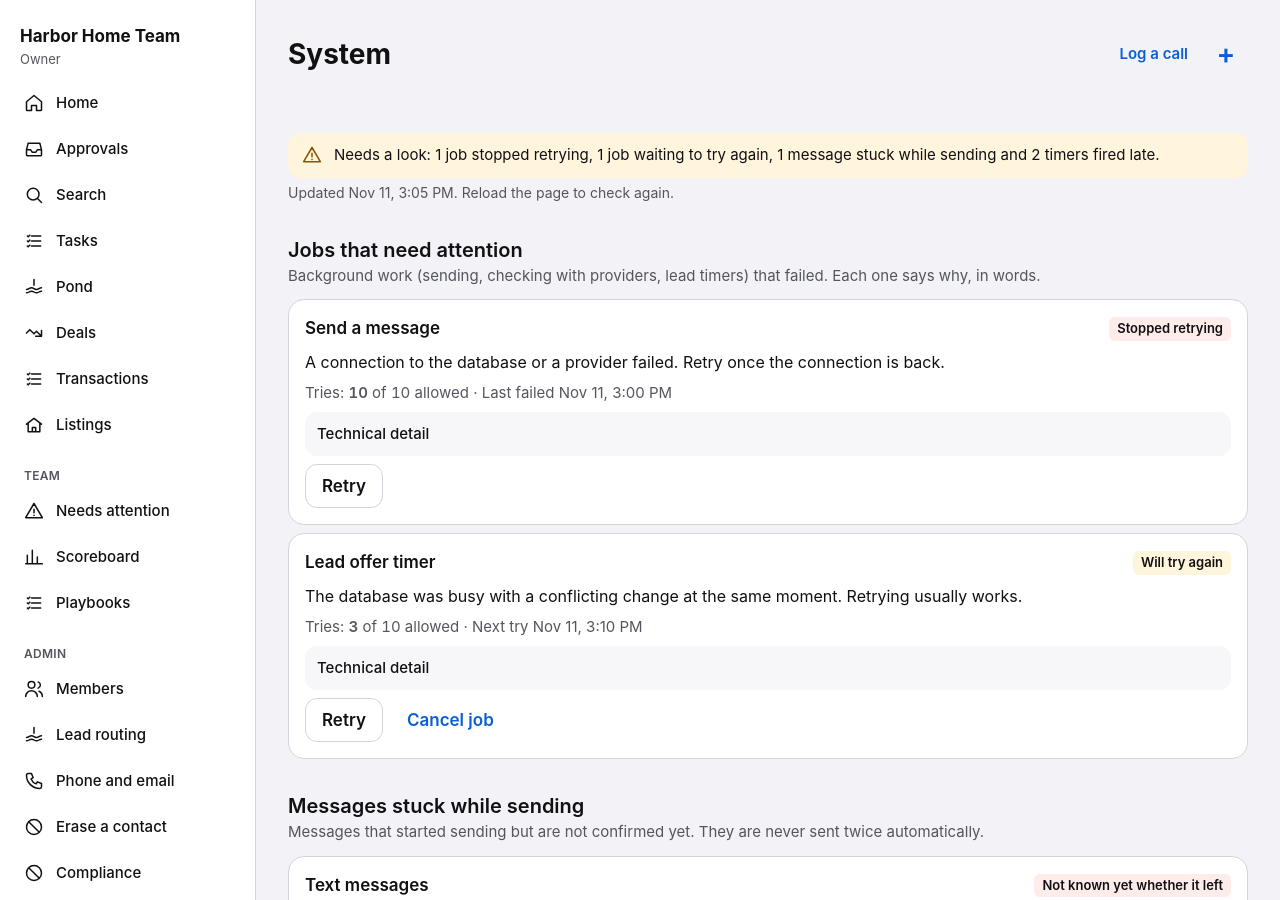
Scenario: System page › a refused retry shows the sentence, never the code, and keeps the dialog open
The image size is (1280, 900).
Click the button named "Retry: Send a message" at (344, 486), box [305,464,383,508]
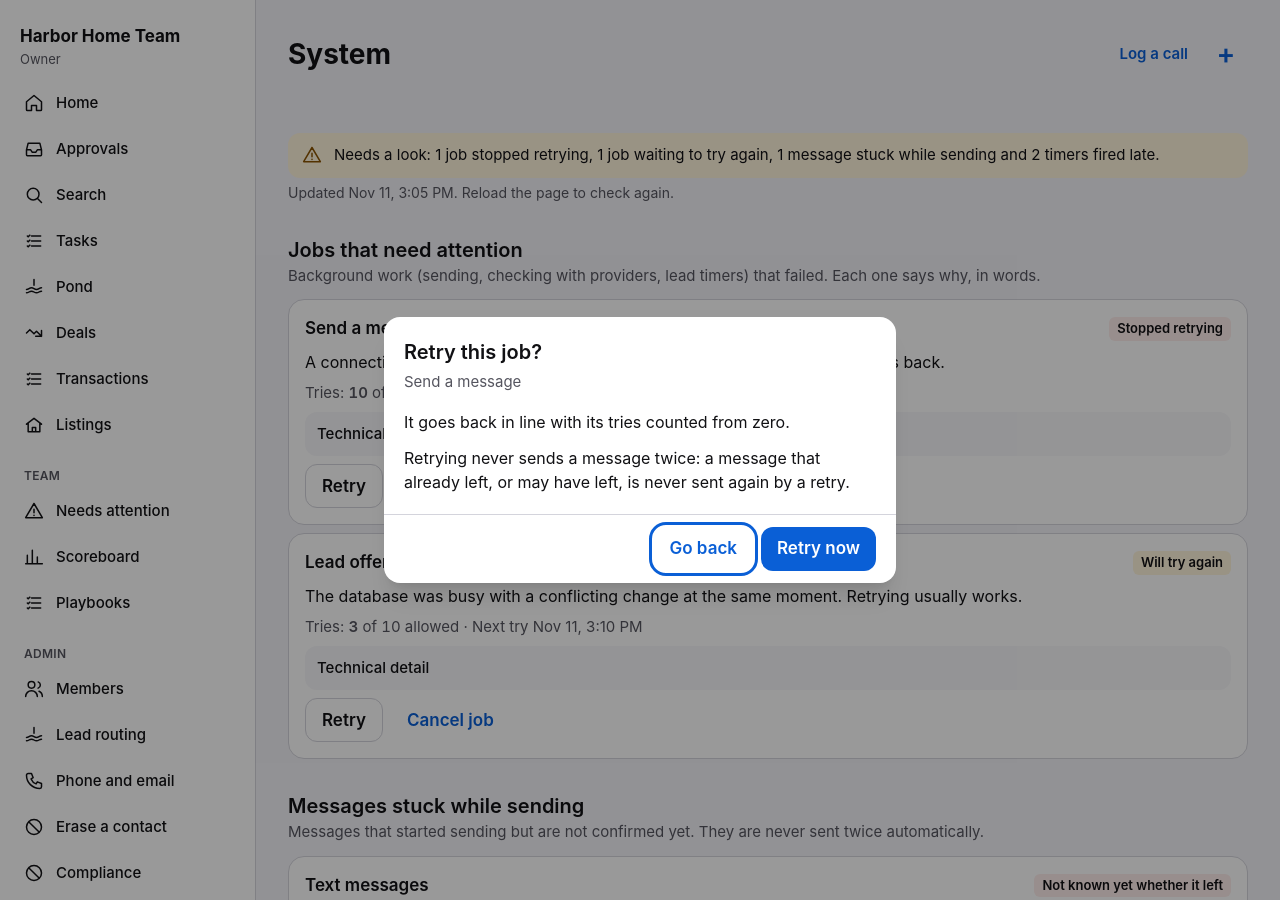
Click the button "Retry now" at (818, 549), box [761,527,876,571]
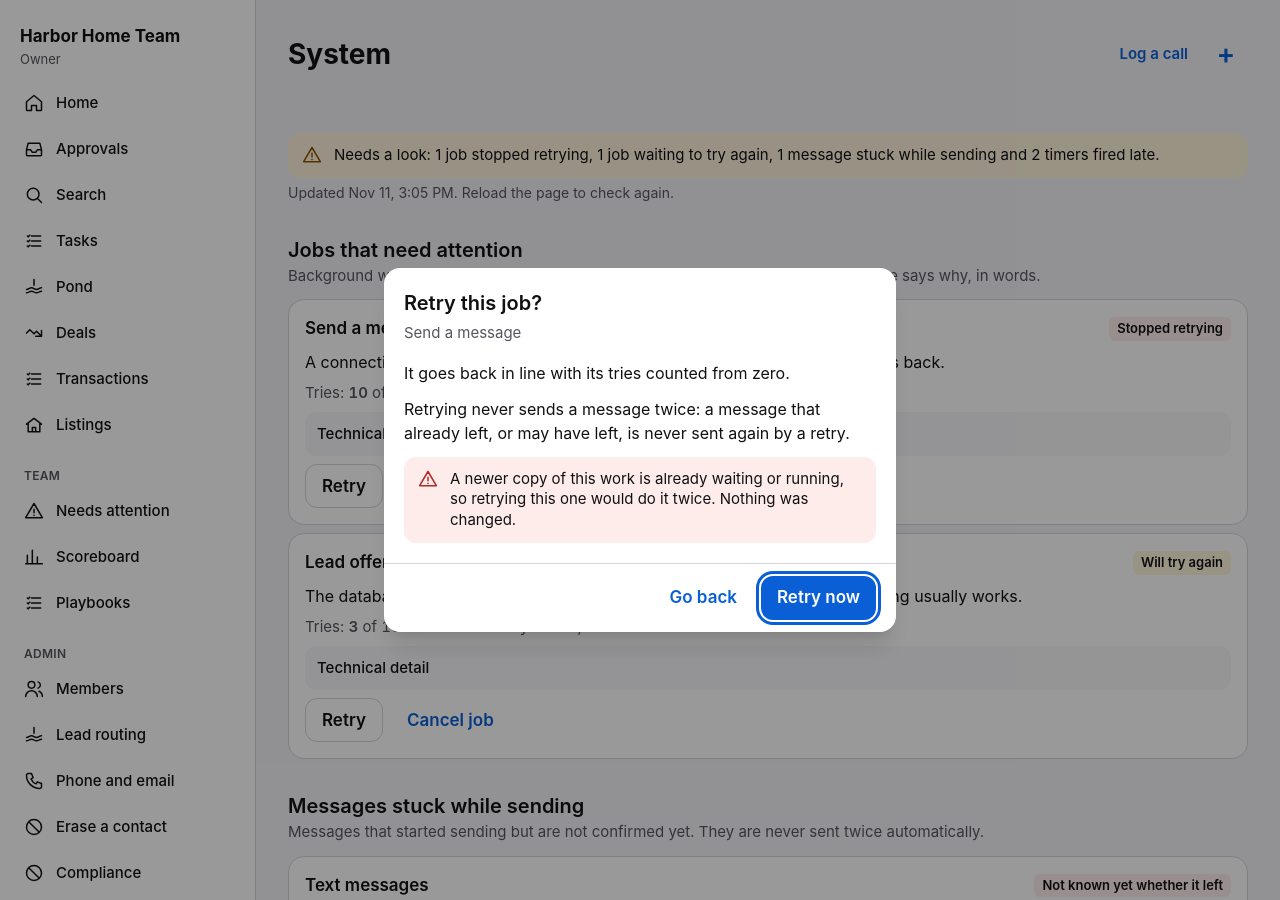
Expected: the text "A newer copy of this work is already waiting or running, so retrying this one would do it twice. Nothing was changed." is shown, [450,469,844,529]
